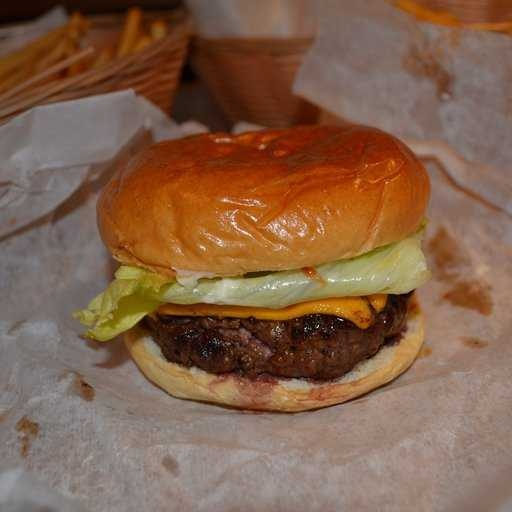hamburger: (68, 104, 430, 418)
